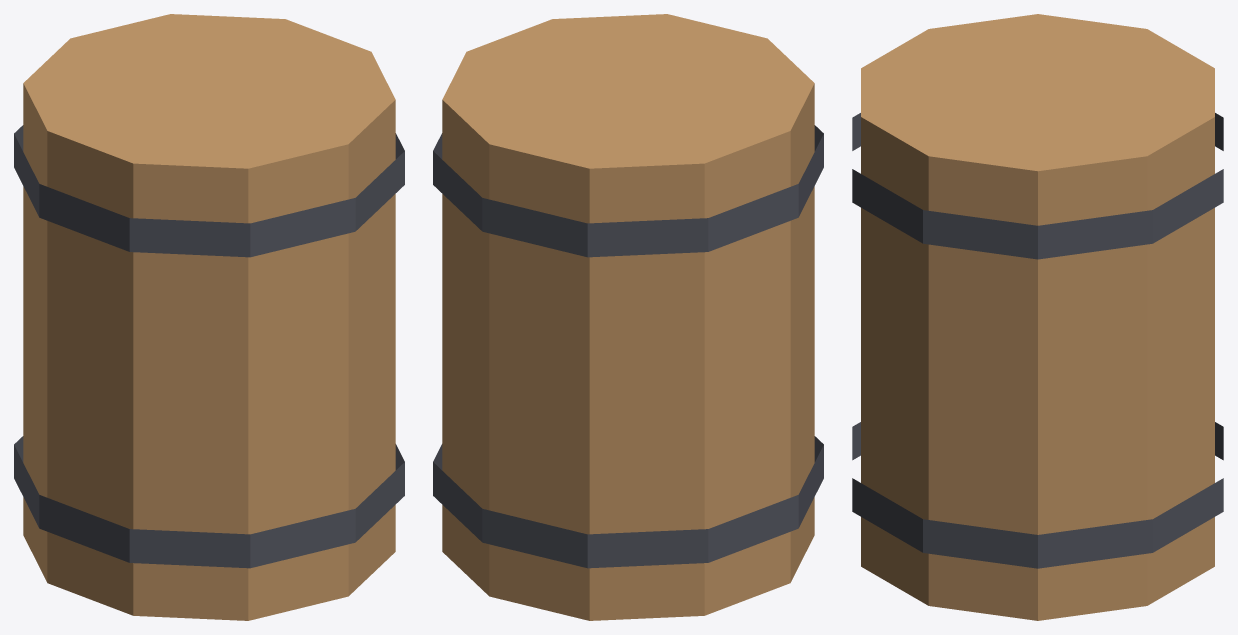
File: barrel.obj
3 renders of one model, left to right at view 1: azimuth 30°, elevation 25°; view 2: azimuth 150°, elevation 25°; view 3: azimuth 270°, elevation 25°, orthographic.
Visible parts, largest first — view 1: barrel; view 2: barrel; view 3: barrel.
Boxes of the visible parts, box(x1,y1,x2,y2) form: barrel: box(14, 14, 404, 620); barrel: box(433, 14, 823, 620); barrel: box(852, 14, 1223, 620).
Bounding box in the file's own units: 0.63 × 0.8 × 0.5992.
